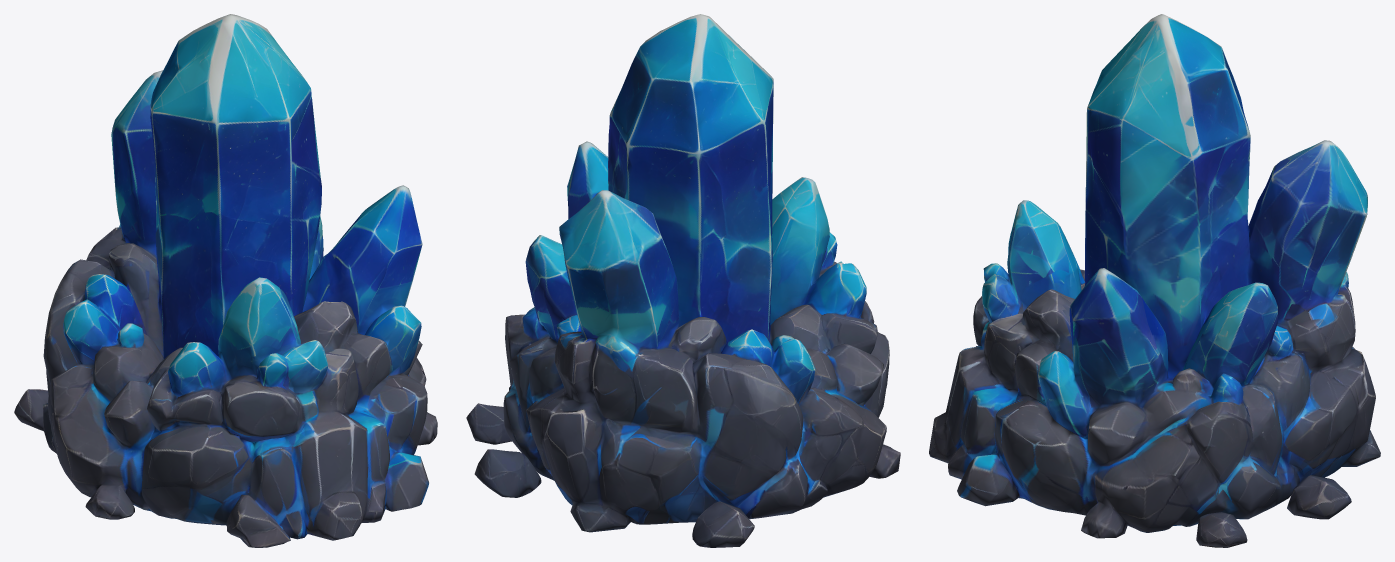
The model's file is Minerais.glb.
The picture shows the model from 3 angles, left to right: view 1: azimuth 30°, elevation 25°; view 2: azimuth 150°, elevation 25°; view 3: azimuth 270°, elevation 25°; orthographic projection.
Visible parts, largest first — view 1: tripo_node_c09938e8-510b-48e9-89e2-45ce3ad31228; view 2: tripo_node_c09938e8-510b-48e9-89e2-45ce3ad31228; view 3: tripo_node_c09938e8-510b-48e9-89e2-45ce3ad31228.
Boxes of the visible parts, left/top/right/bottom form: tripo_node_c09938e8-510b-48e9-89e2-45ce3ad31228: left=14, top=14, right=437, bottom=547; tripo_node_c09938e8-510b-48e9-89e2-45ce3ad31228: left=466, top=14, right=900, bottom=547; tripo_node_c09938e8-510b-48e9-89e2-45ce3ad31228: left=929, top=14, right=1380, bottom=547.
Size of the model in its own units: 0.8855 by 1 by 0.9311.
Materials: 1 (1 with a texture image).
